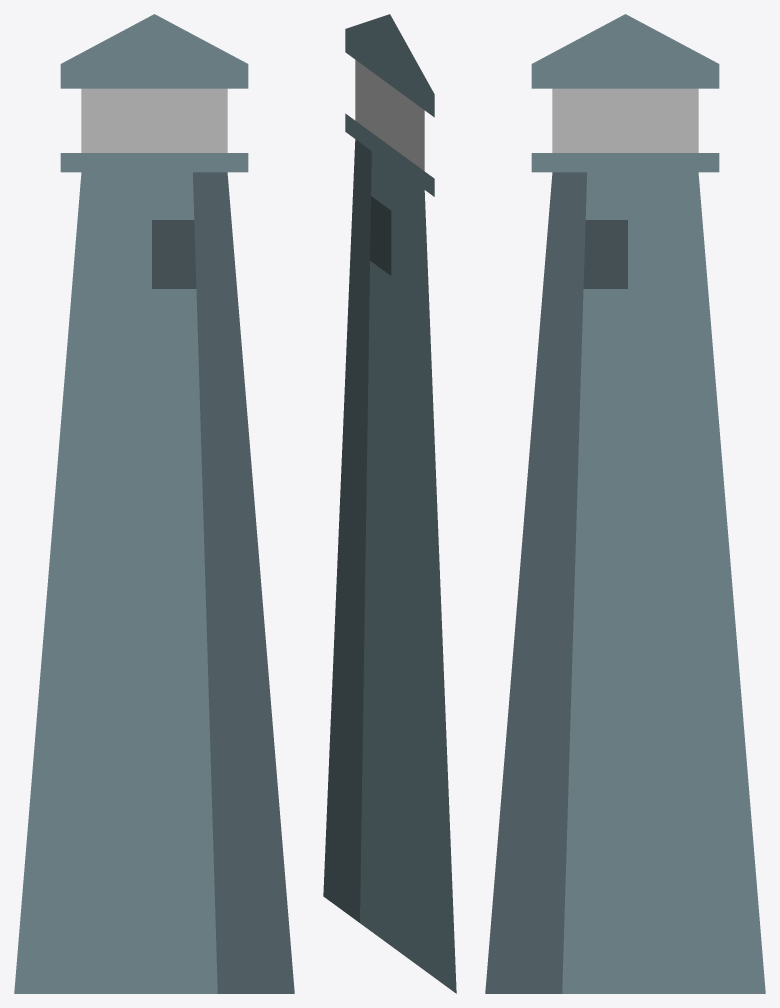
Rendered from LighthouseA.fbx.
3 views of the same model, side by side, from view 1: azimuth 90°, elevation 25°; view 2: azimuth 210°, elevation 25°; view 3: azimuth 270°, elevation 25° (orthographic). The views are drawn at different scales.
Visible parts, largest first — view 1: LighthouseA; view 2: LighthouseA; view 3: LighthouseA.
Boxes of the visible parts, box(x1,y1,x2,y2) form: LighthouseA: box(14, 14, 294, 993); LighthouseA: box(323, 14, 456, 993); LighthouseA: box(485, 14, 765, 993).
Bounding box in the file's own units: 0.00195 × 7128 × 1850.
Materials: 1 (1 with a texture image).
